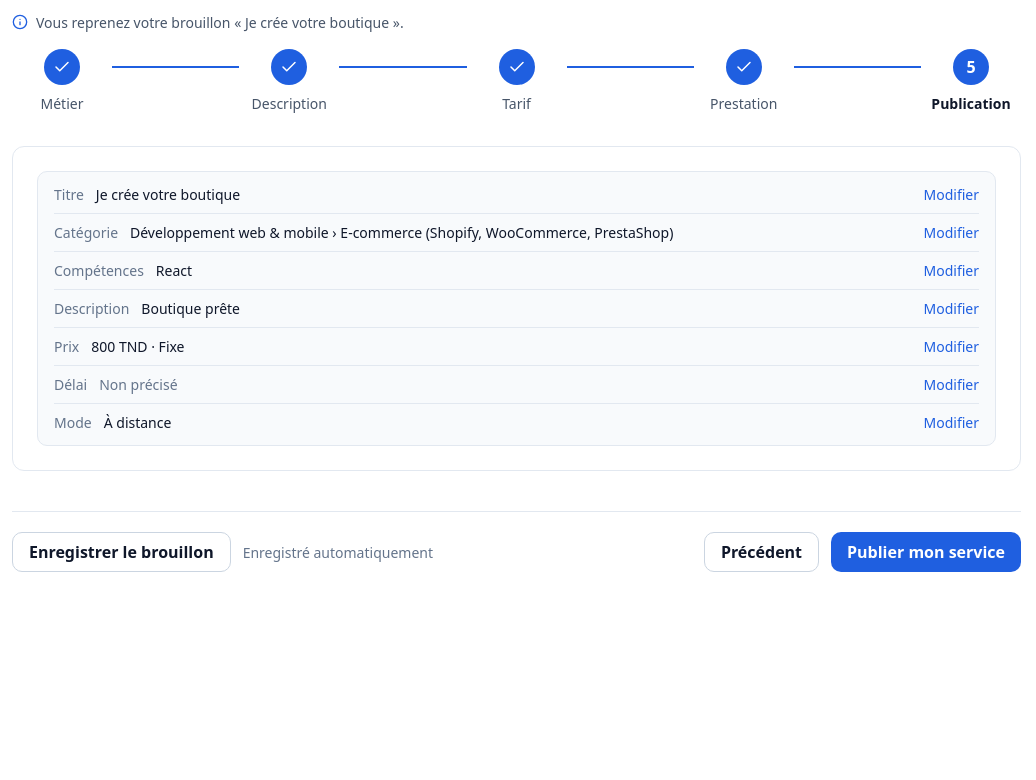
it: H6 wizard › step 5 « Publication » (PR-4) › a refusal shows the message, flags the failing rows, and re-opens the footer
This screenshot has width=1036, height=780.
Step 1. Click the button "Publier mon service" → (926, 552), box [831,532,1021,572]
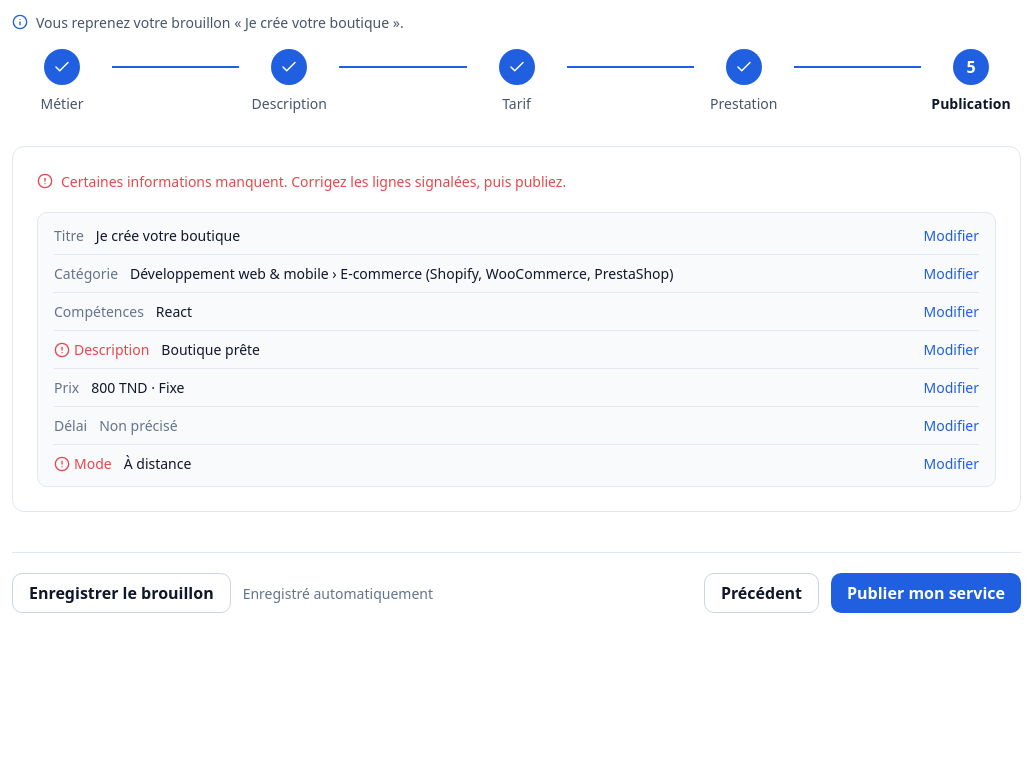
Expected: the button "Publier mon service" is enabled, [831,573,1021,613]
Expected: the message "Certaines informations manquent. Corrigez les lignes signalées, puis publiez." is shown, [37,172,566,191]
